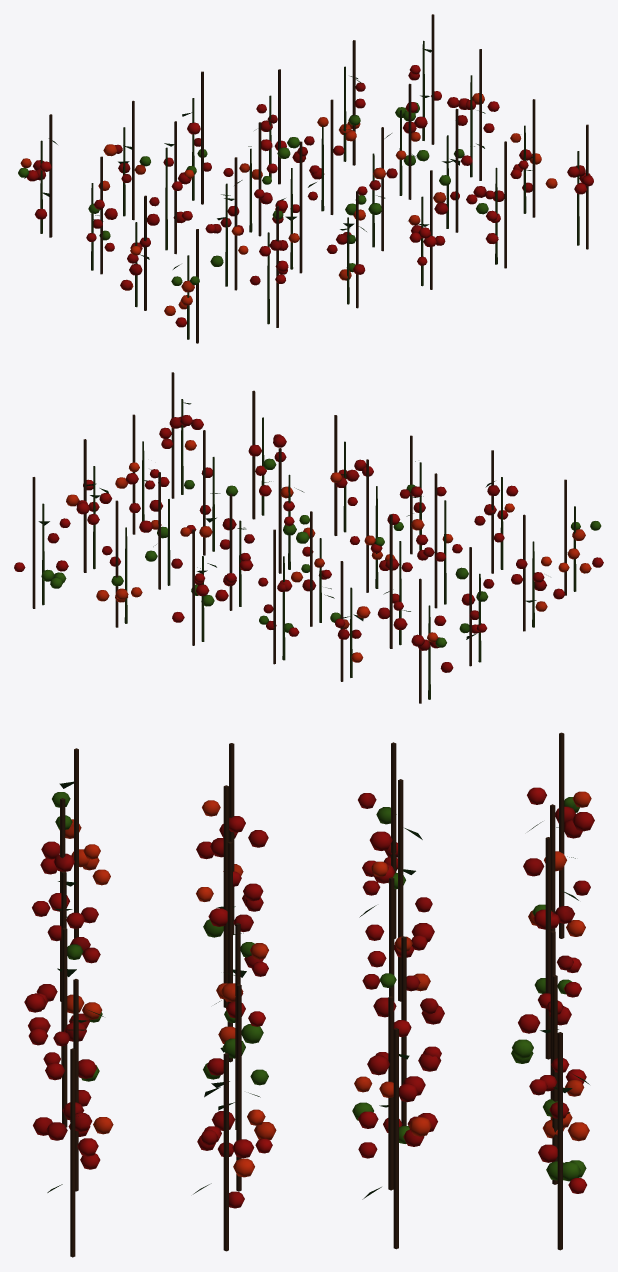
File: fm_tomato_3.glb
3 views of the same model, one above another, from view 1: azimuth 30°, elevation 25°; view 2: azimuth 150°, elevation 25°; view 3: azimuth 270°, elevation 25° (orthographic). The views are drawn at different scales.
Visible parts, largest first — view 1: fm_tomato_3; view 2: fm_tomato_3; view 3: fm_tomato_3.
Boxes of the visible parts, x1,y1,x2,y2 form: fm_tomato_3: (18, 14, 593, 343); fm_tomato_3: (14, 372, 603, 703); fm_tomato_3: (24, 732, 594, 1257).
Size of the model in its own units: 3.88 by 1.1 by 2.67.
